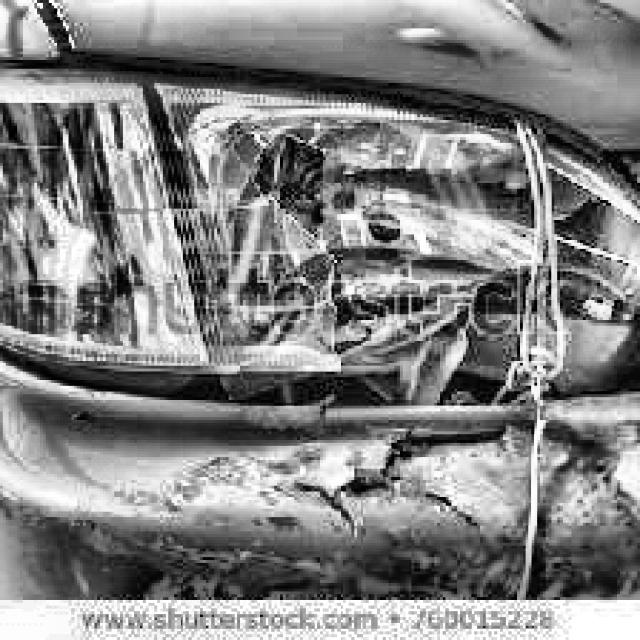head_lamp: (8, 78, 616, 416)
